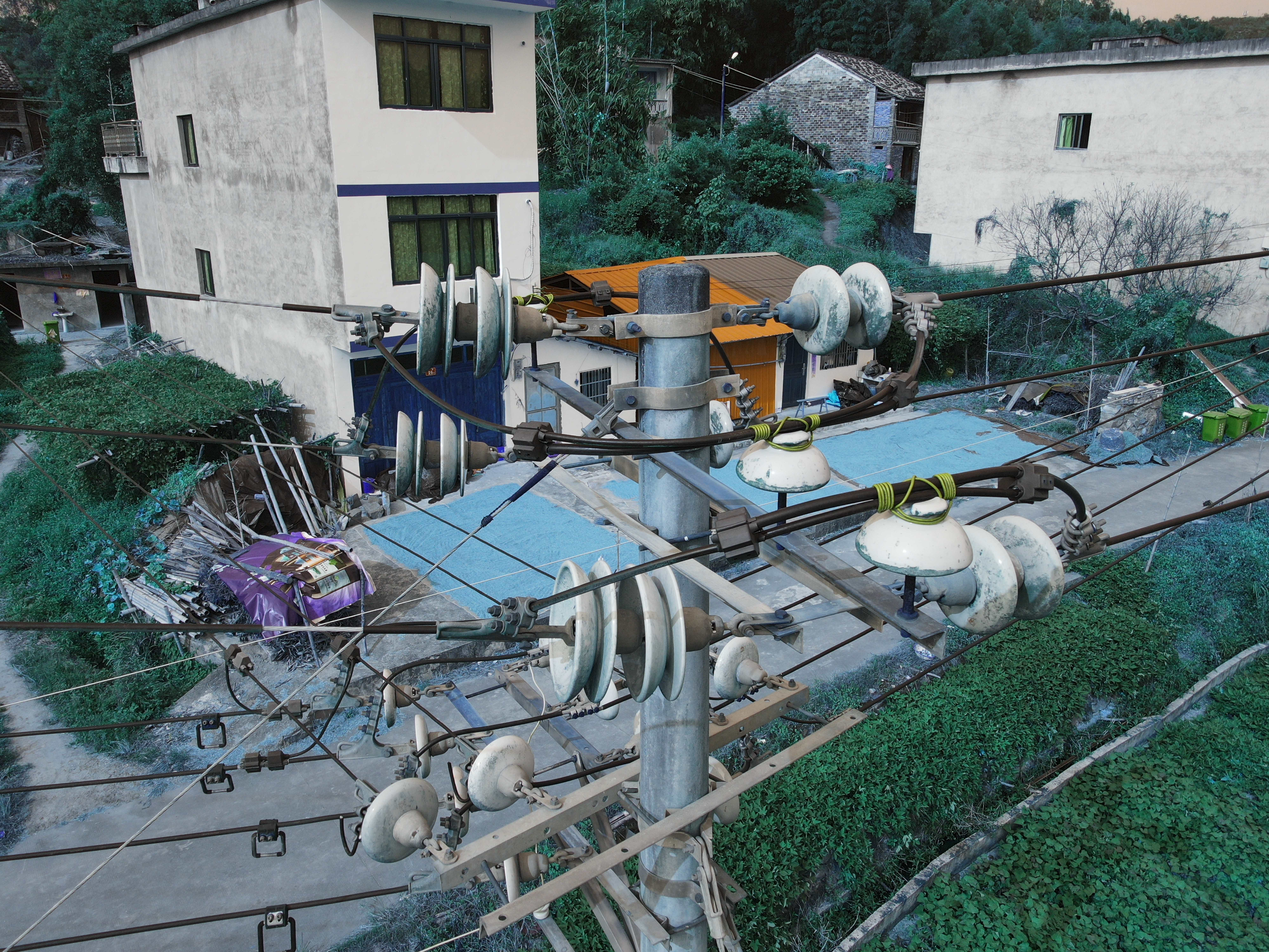severe_soiling_no_discharge_whole: (538, 556, 722, 704), (404, 260, 557, 380), (933, 514, 1074, 633), (774, 256, 898, 359), (847, 490, 976, 583), (387, 409, 497, 503), (355, 772, 442, 870), (729, 424, 839, 496), (462, 734, 538, 816), (709, 632, 765, 701), (378, 667, 421, 728)
